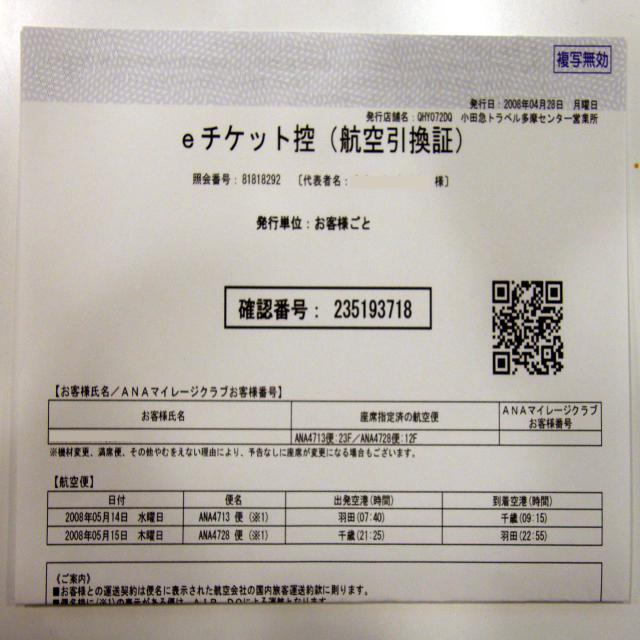qrcode: (494, 281, 565, 376)
